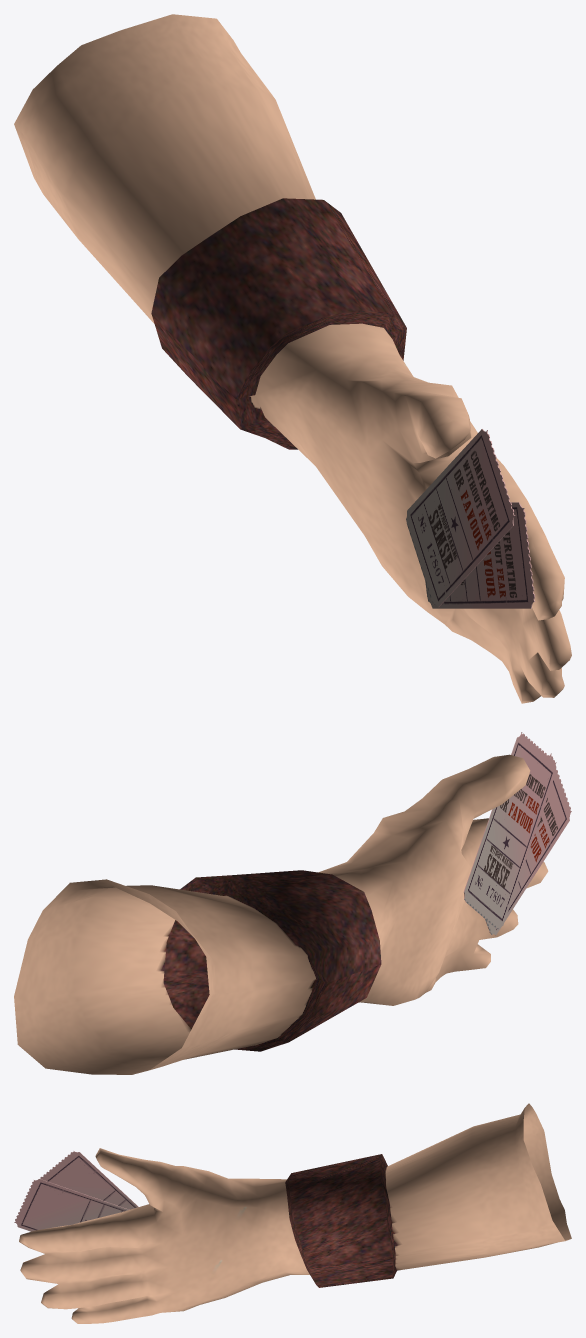
The model's file is personaBraT.obj.
3 renders of one model, top to bottom at view 1: azimuth 30°, elevation 25°; view 2: azimuth 150°, elevation 25°; view 3: azimuth 270°, elevation 25°, orthographic. The views are drawn at different scales.
Parts seen in each view (by area): view 1: ticket2:Card_2; view 2: ticket2:Card_2; view 3: ticket2:Card_2.
Part boxes in pixels (x1,y1,x2,y2): ticket2:Card_2: [14, 14, 571, 703]; ticket2:Card_2: [14, 732, 571, 1074]; ticket2:Card_2: [14, 1103, 571, 1323].
Bounding box in the file's own units: 0.1215 × 0.1976 × 0.4649.
Materials: 3 (3 with a texture image).
